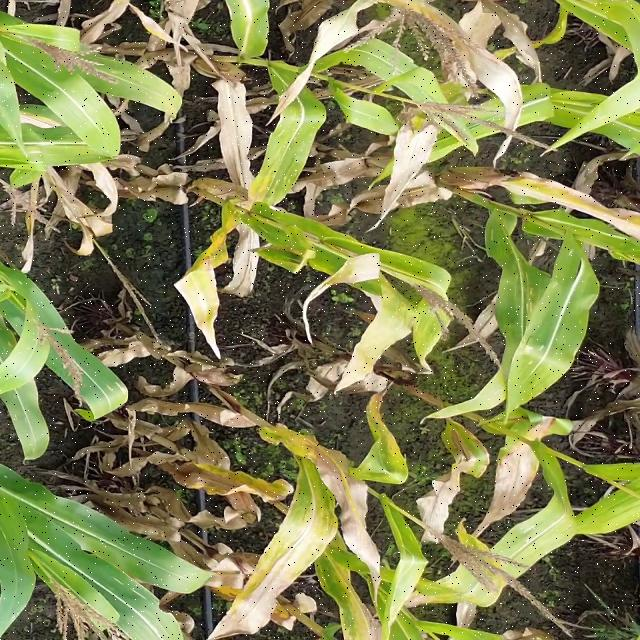gray-leaf-spot: (493, 245, 543, 318), (258, 127, 307, 189), (526, 327, 575, 373), (4, 393, 50, 437), (106, 571, 154, 601), (94, 374, 128, 401)
northern-leaf-blight: (15, 104, 60, 138)
